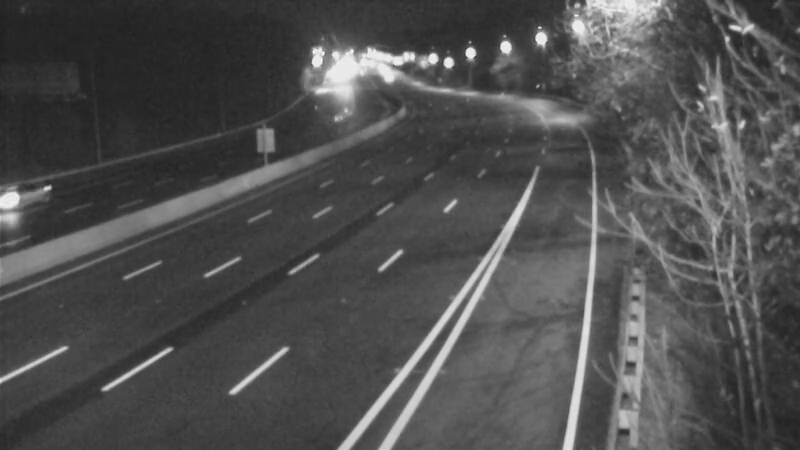vehicle: (1, 153, 69, 233), (363, 52, 413, 102)
